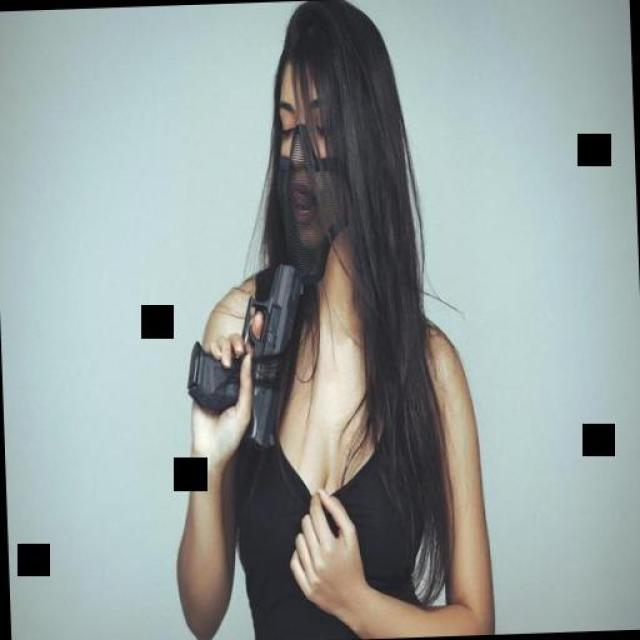gun: (184, 258, 311, 447)
